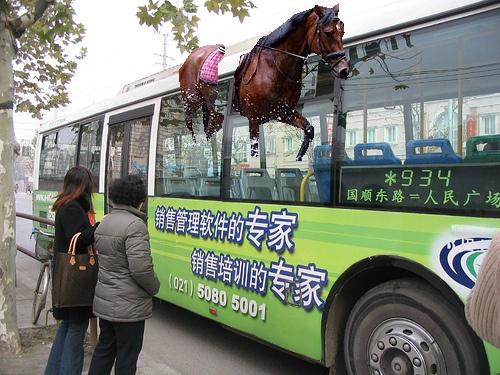tampered: (180, 4, 349, 161)
